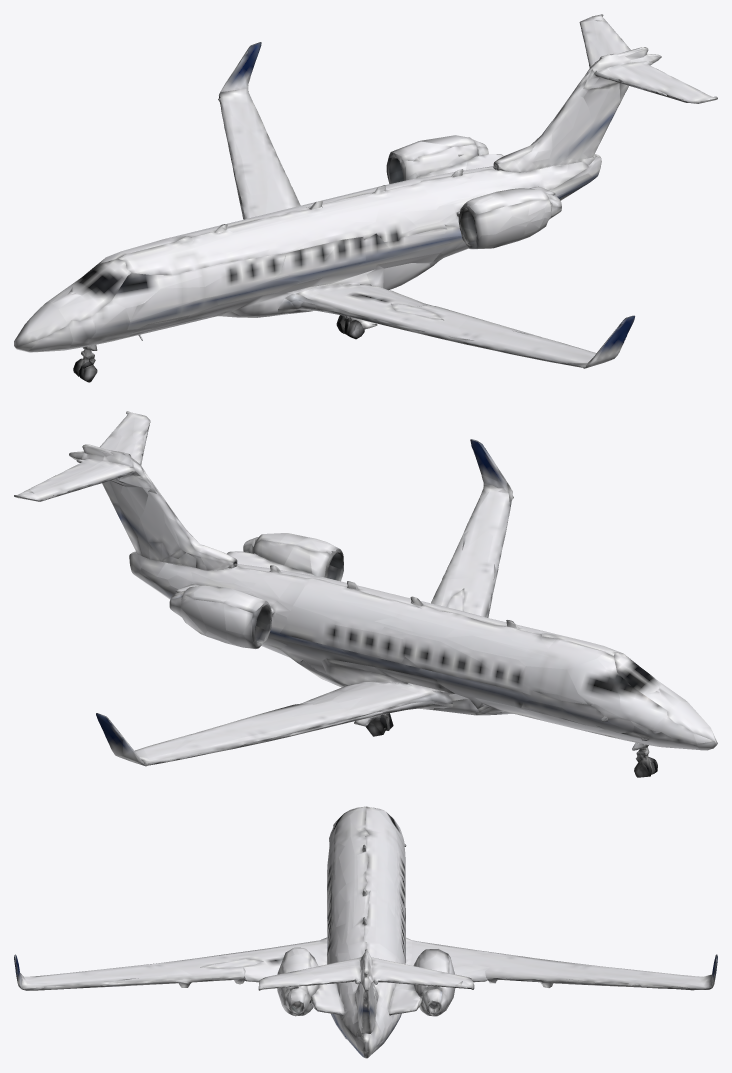
File: jet_mid.glb
3 views of the same model, one above another, from view 1: azimuth 30°, elevation 25°; view 2: azimuth 150°, elevation 25°; view 3: azimuth 270°, elevation 25° (orthographic). The views are drawn at different scales.
Visible parts, largest first — view 1: LO; view 2: LO; view 3: LO.
Boxes of the visible parts, x1=… form: LO: x1=14, y1=14, x2=717, y2=382; LO: x1=14, y1=411, x2=717, y2=777; LO: x1=14, y1=806, x2=717, y2=1058.
Bounding box in the file's own units: 20.89 × 6.09 × 20.97.
Materials: 1 (1 with a texture image).
